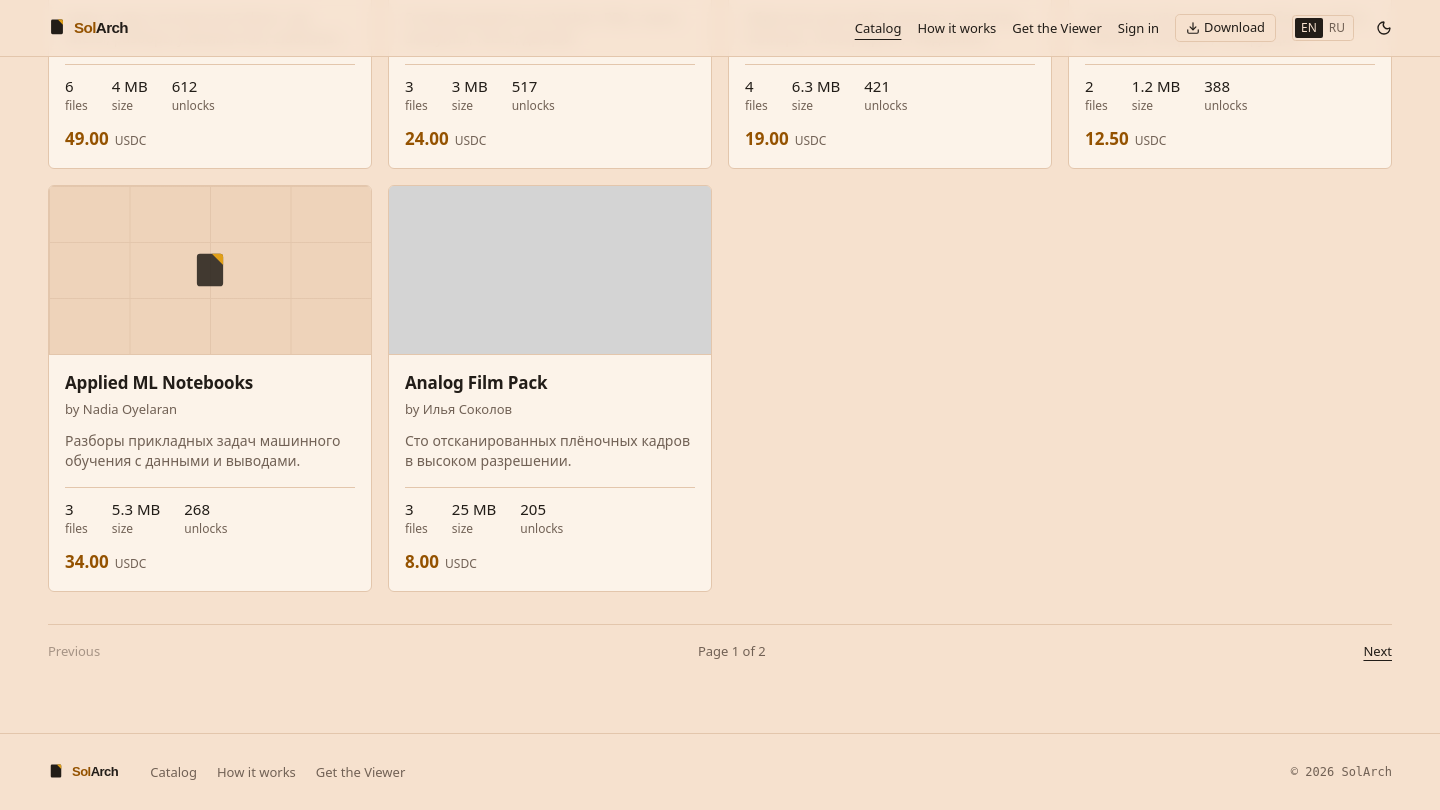
Test: каталог › разбивает выдачу на страницы и переходит на вторую
(page scrolled)
Expected: the text "Page 1 of 2" is shown, [698,641,766,661]
Step 1. Click the link "Next" → (1378, 651), box [1364,641,1392,661]
(page scrolled)
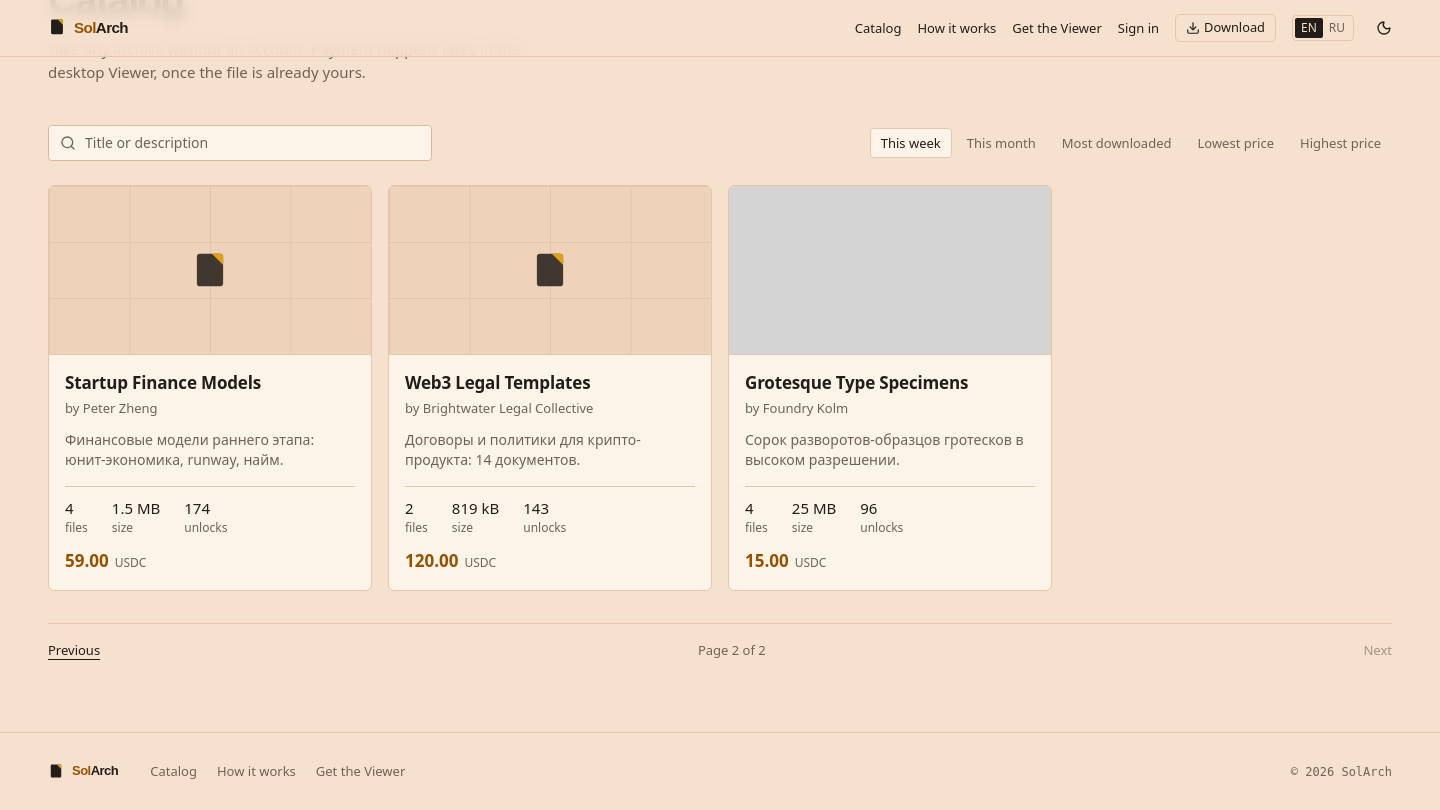
Expected: the text "Page 2 of 2" is shown, [698,640,766,660]
